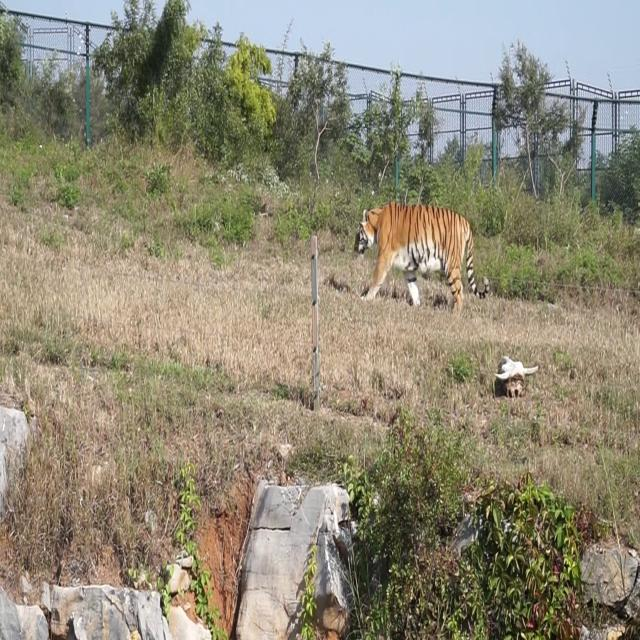Tiger: (352, 181, 489, 343)
